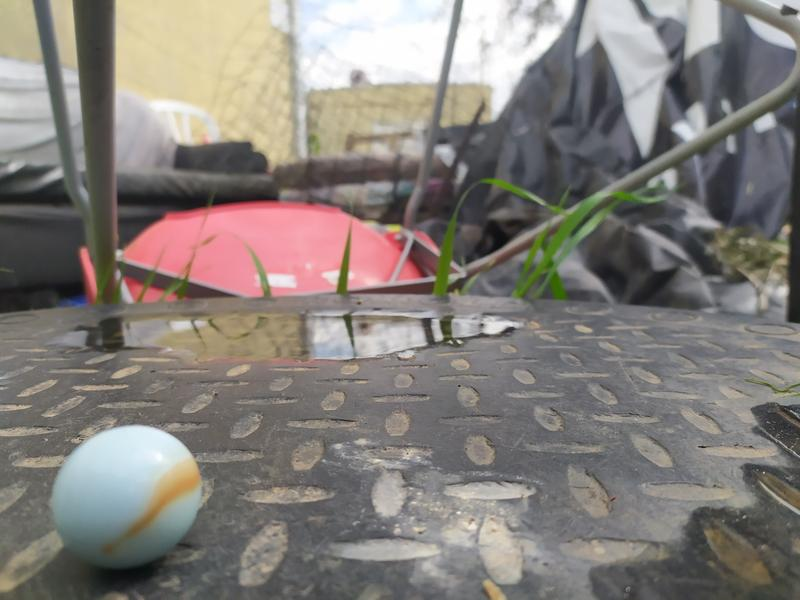Warning: (47, 419, 206, 573)
